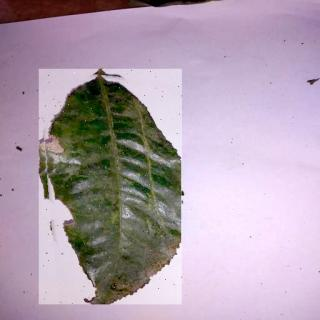Anthracnose: (40, 70, 184, 305)
